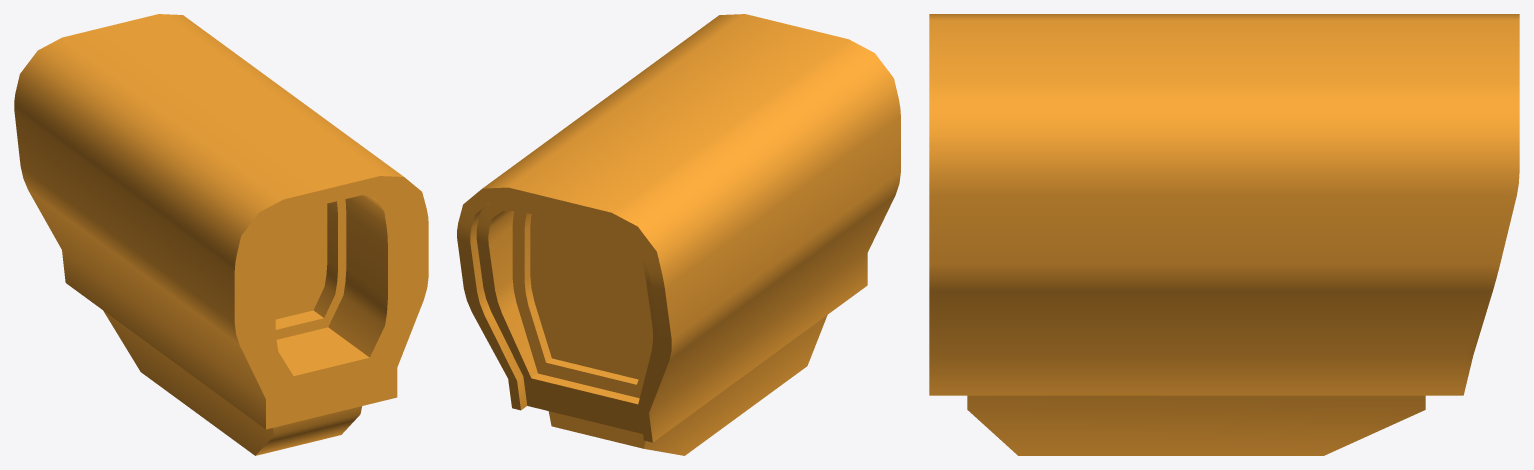
Rendered from part_sight_02.fbx.
The picture shows the model from 3 angles, left to right: view 1: azimuth 30°, elevation 25°; view 2: azimuth 150°, elevation 25°; view 3: azimuth 270°, elevation 25°; orthographic projection. The views are drawn at different scales.
Parts seen in each view (by area): view 1: part_sight_02; view 2: part_sight_02; view 3: part_sight_02.
Boxes of the visible parts, left/top/right/bottom form: part_sight_02: left=14, top=14, right=428, bottom=455; part_sight_02: left=457, top=14, right=900, bottom=455; part_sight_02: left=929, top=14, right=1519, bottom=455.
Bounding box in the file's own units: 5.87 × 8.15 × 11.59.
